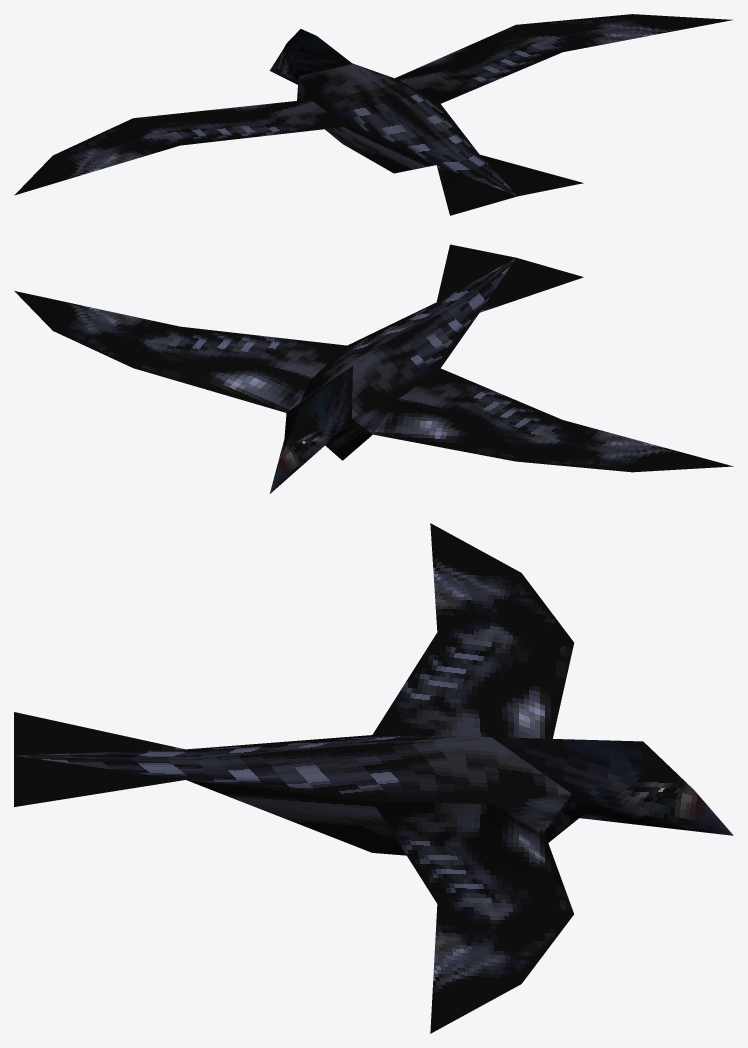
File: Critter_Crow.FBX
The picture shows the model from 3 angles, top to bottom: view 1: azimuth 30°, elevation 25°; view 2: azimuth 150°, elevation 25°; view 3: azimuth 270°, elevation 25°; orthographic projection. The views are drawn at different scales.
Visible parts, largest first — view 1: critter_crow; view 2: critter_crow; view 3: critter_crow.
Boxes of the visible parts, x1,y1,x2,y2 form: critter_crow: (14,14,732,215); critter_crow: (14,244,733,493); critter_crow: (14,523,733,1033).
Size of the model in its own units: 152 by 17.72 by 90.64.
